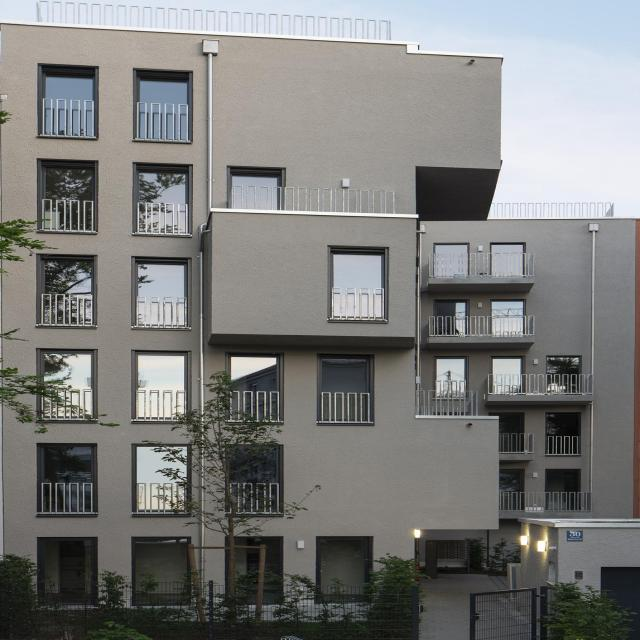Railing: (42, 1, 395, 41), (288, 189, 399, 215), (435, 256, 539, 278), (491, 203, 620, 220), (46, 100, 100, 140), (432, 318, 540, 338), (493, 376, 597, 396), (141, 104, 195, 142), (43, 484, 102, 516), (503, 494, 594, 514), (46, 295, 101, 328), (336, 290, 390, 322), (49, 201, 100, 234), (139, 298, 193, 329), (141, 204, 193, 236), (141, 484, 193, 516), (235, 484, 286, 515), (324, 393, 377, 422), (236, 391, 285, 421), (47, 389, 95, 419), (420, 392, 476, 417), (139, 390, 189, 418), (237, 187, 284, 211), (502, 434, 536, 454), (549, 438, 583, 455), (439, 381, 472, 393)
plant: (144, 370, 289, 533), (28, 574, 381, 639), (0, 366, 89, 434), (548, 584, 639, 640), (378, 559, 417, 640), (4, 554, 32, 640)
wall: (0, 0, 638, 619)
windows: (136, 538, 194, 606), (46, 537, 102, 607), (237, 537, 288, 606), (323, 538, 376, 604), (43, 448, 101, 484), (47, 260, 104, 295), (141, 448, 194, 484), (47, 356, 100, 390), (140, 356, 190, 391), (338, 254, 385, 291), (325, 359, 374, 394), (140, 173, 191, 206), (48, 169, 98, 202), (235, 359, 283, 392), (139, 267, 189, 298), (237, 452, 282, 483), (142, 78, 192, 105), (51, 76, 96, 102), (550, 471, 585, 495), (550, 415, 580, 437), (552, 357, 586, 376), (504, 470, 528, 496), (440, 360, 469, 381), (496, 415, 528, 433), (437, 302, 473, 318), (237, 176, 281, 188), (497, 360, 527, 377), (497, 302, 530, 316), (496, 244, 526, 255), (441, 246, 472, 255)
